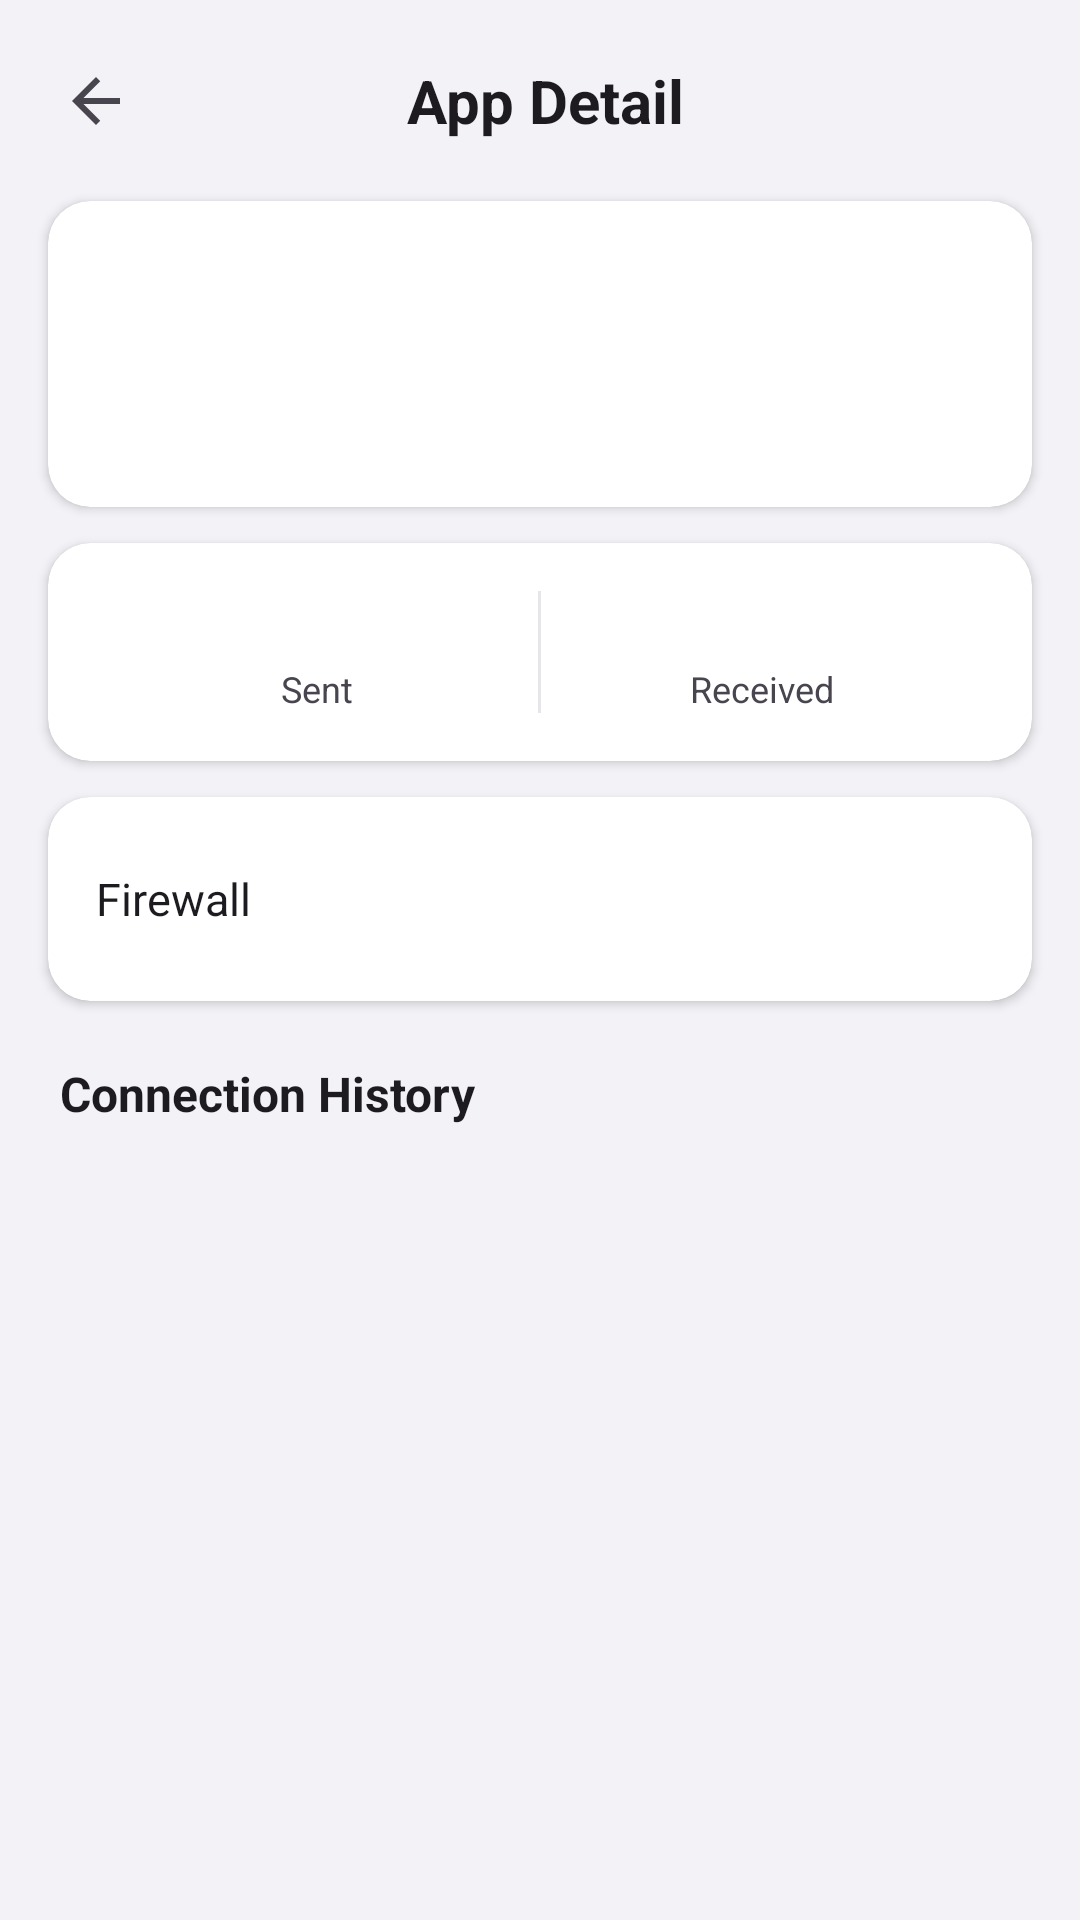

Point at icon controls on the screen. Image size 1080*1920, points as (x,y).
arrow back: (96,101)
